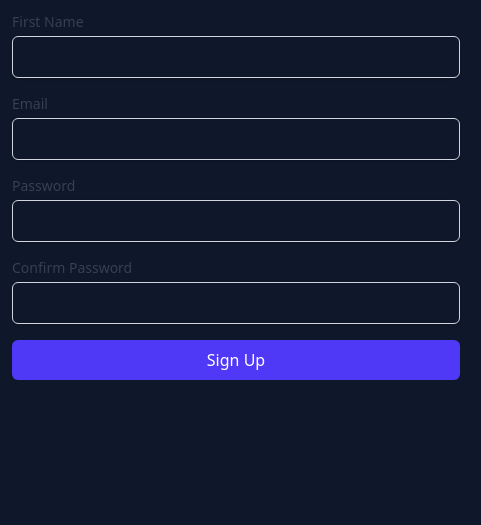
Test: SignUpForm › shows error when passwords do not match
In the field labelled "First Name": [236, 57] box [12,36,460,78], type "Jane"
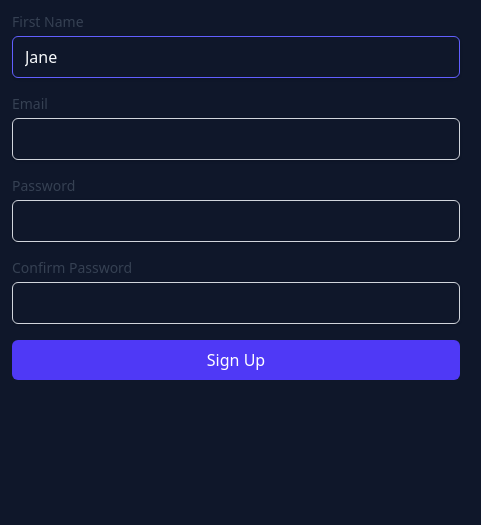
In the field labelled "Email": [236, 139] box [12,118,460,160], type "test@example.com"
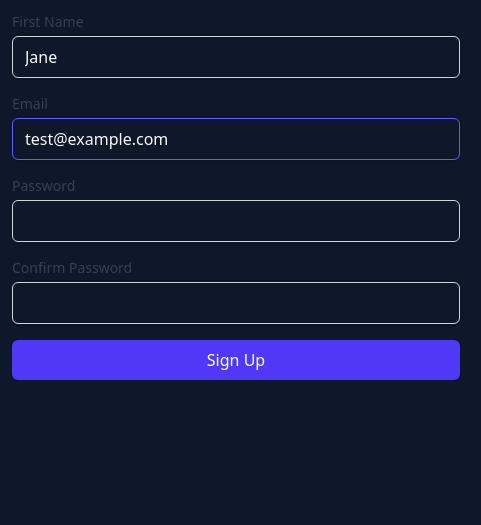
In the password field labelled "Password": [236, 221] box [12,200,460,242], type "Password123!"
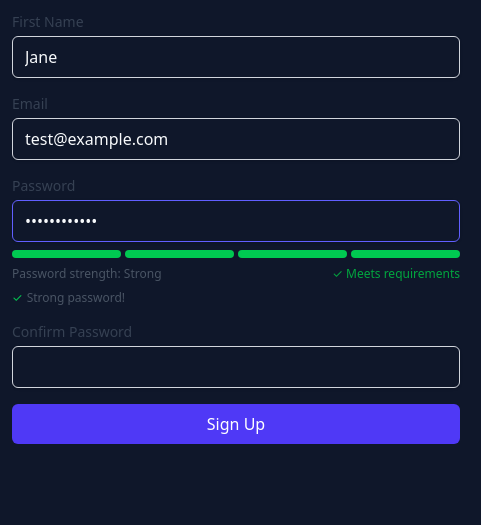
In the password field labelled "Confirm Password": [236, 367] box [12,346,460,388], type "Different123!"
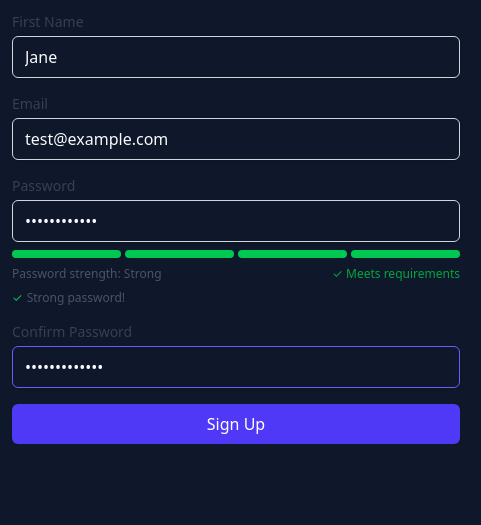
Click the button "Sign Up": [236, 424] box [12,404,460,444]
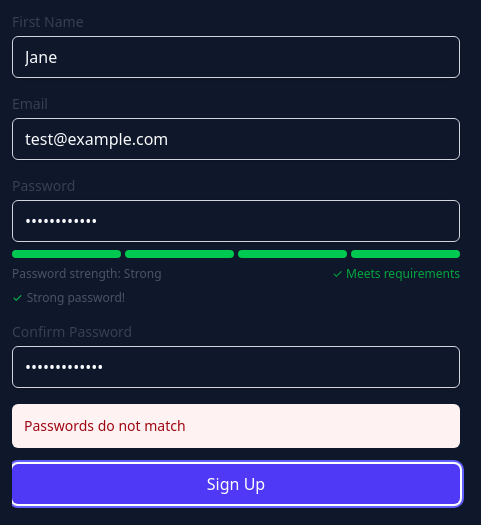
Check: the text "Passwords do not match" is shown, box [12,404,460,448]
